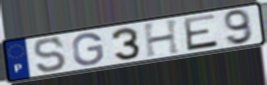3: (109, 26, 142, 61)
9: (222, 8, 255, 46)
E: (181, 12, 220, 53)
G: (70, 32, 105, 67)
H: (141, 17, 183, 59)
S: (32, 36, 69, 74)
